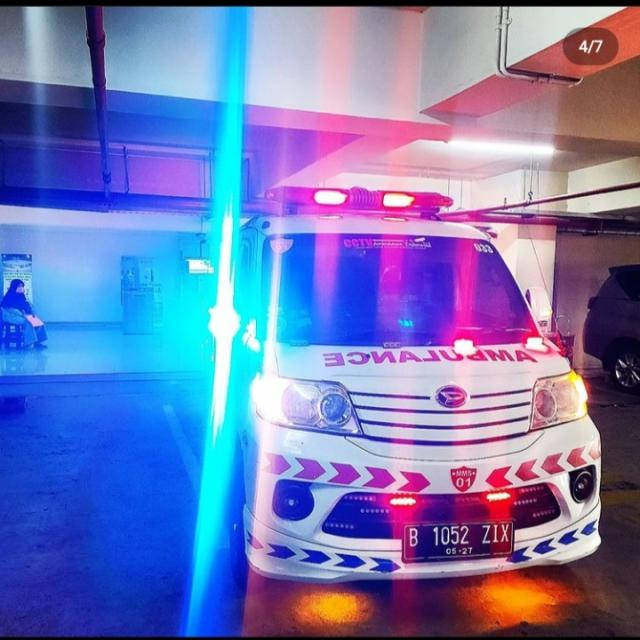emergency-vehicle: (193, 172, 639, 618)
